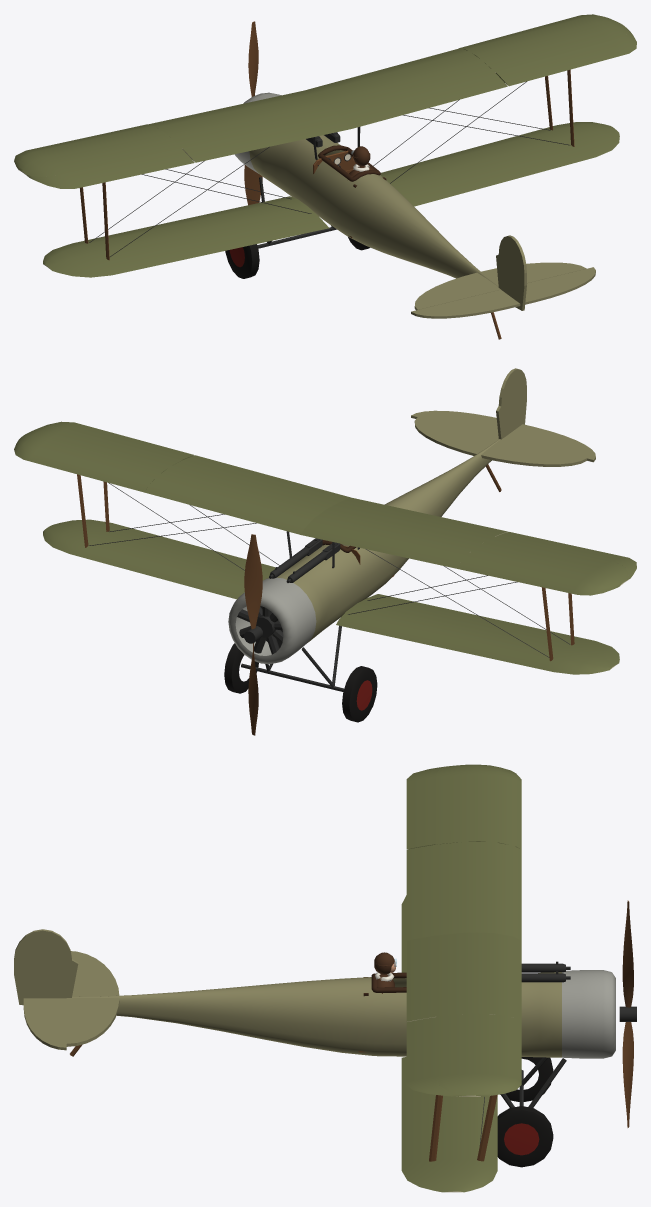
File: nieuport_28.glb
3 views of the same model, one above another, from view 1: azimuth 30°, elevation 25°; view 2: azimuth 150°, elevation 25°; view 3: azimuth 270°, elevation 25° (orthographic). The views are drawn at different scales.
Parts seen in each view (by area): view 1: Wing_Upper_R, Wing_Upper_L, Fuselage, Wing_Lower_L, Wing_Lower_R, Elevator, Aileron_L, Aileron_R, Rudder, Stabilizer_L, Wires, Struts (+5 smaller); view 2: Wing_Upper_R, Wing_Upper_L, Wing_Lower_L, Wing_Lower_R, Fuselage, Cowling, Elevator, Wheels, PropBlades, Stabilizer_L, Stabilizer_R, Rudder (+7 smaller); view 3: Fuselage, Wing_Upper_L, Wing_Upper_R, Wing_Lower_R, Cowling, Rudder, Wheels, Aileron_R, Aileron_L, Stabilizer_R, PropBlades, Elevator (+5 smaller).
Part boxes in pixels (box(x1,y1,x2,y2)): Wing_Upper_R: box(304, 14, 628, 128); Wing_Upper_L: box(14, 90, 351, 176); Fuselage: box(249, 135, 498, 286); Wing_Lower_L: box(43, 196, 329, 277); Wing_Lower_R: box(380, 122, 619, 206); Elevator: box(411, 267, 595, 318); Aileron_L: box(27, 148, 194, 188); Aileron_R: box(495, 29, 636, 86); Rudder: box(496, 235, 526, 310); Stabilizer_L: box(414, 272, 500, 310); Wires: box(89, 81, 570, 256); Struts: box(79, 69, 574, 260); Wing_Upper_R: box(14, 426, 350, 534); Wing_Upper_L: box(301, 497, 628, 595); Wing_Lower_L: box(336, 594, 619, 674); Wing_Lower_R: box(43, 519, 275, 599); Fuselage: box(266, 439, 500, 642); Cowling: box(228, 577, 316, 664); Elevator: box(411, 410, 595, 462); Wheels: box(224, 643, 377, 722); PropBlades: box(244, 534, 262, 735); Stabilizer_L: box(481, 438, 586, 466); Stabilizer_R: box(414, 417, 498, 455); Rudder: box(496, 368, 526, 439); Fuselage: box(72, 972, 561, 1057); Wing_Upper_L: box(406, 764, 521, 940); Wing_Upper_R: box(406, 932, 521, 1096); Wing_Lower_R: box(401, 1057, 497, 1192); Cowling: box(562, 970, 615, 1058); Rudder: box(14, 929, 78, 1005); Wheels: box(497, 1057, 553, 1167); Aileron_R: box(406, 1017, 462, 1096); Aileron_L: box(406, 766, 446, 849); Stabilizer_R: box(66, 997, 119, 1046); PropBlades: box(619, 900, 636, 1127); Elevator: box(23, 998, 66, 1050).
Bounding box in the file's own units: 8.16 × 2.66 × 6.49.
